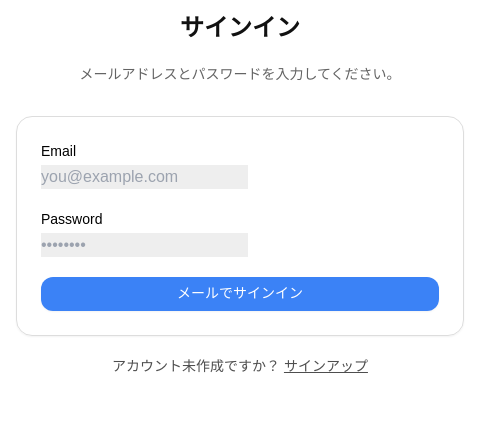
Scenario: SignIn Component › メールサインイン失敗（サーバーから message あり）：その文言を表示し、ローディング解除
Type "ng@example.com" into the field labelled "Email" at (144, 177), box top-left (41, 165), bottom-right (248, 189)
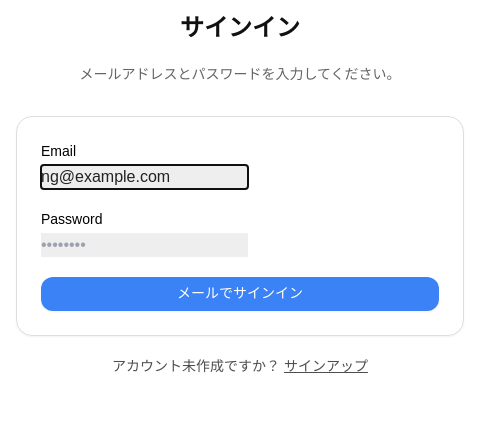
Type "wrong" into the password field labelled "Password" at (144, 245), box top-left (41, 233), bottom-right (248, 257)
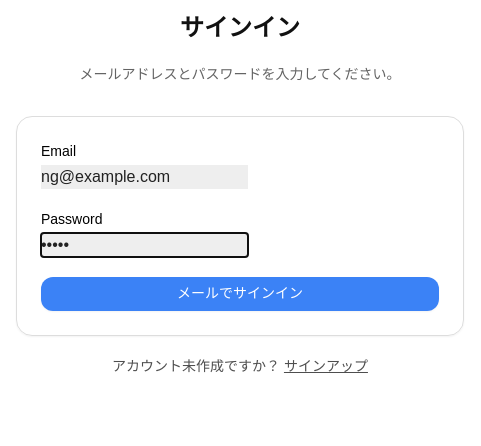
Click the button "メールでサインイン" at (240, 294), box top-left (41, 277), bottom-right (439, 310)
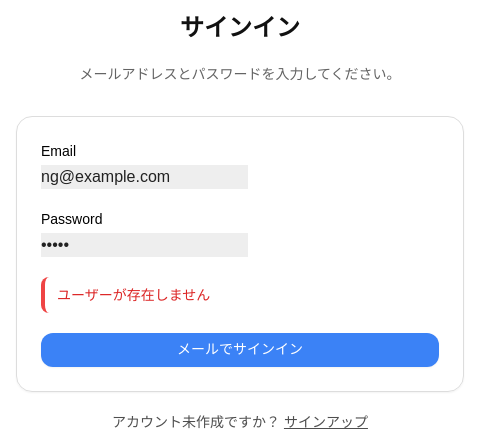
Check: the button "メールでサインイン" is shown, box top-left (41, 333), bottom-right (439, 366)
Check: the text "ユーザーが存在しません" is shown, box top-left (41, 277), bottom-right (439, 313)
